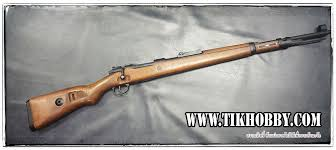gun: (21, 18, 330, 134)
